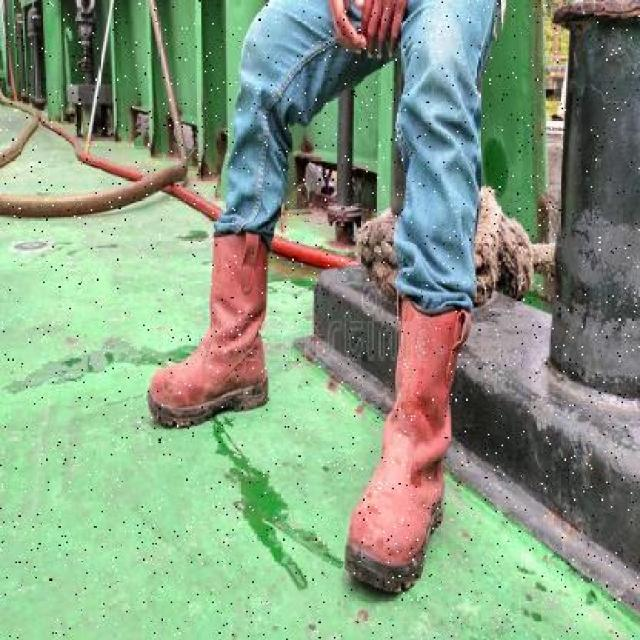shoes: (343, 307, 459, 588), (161, 229, 274, 420)
